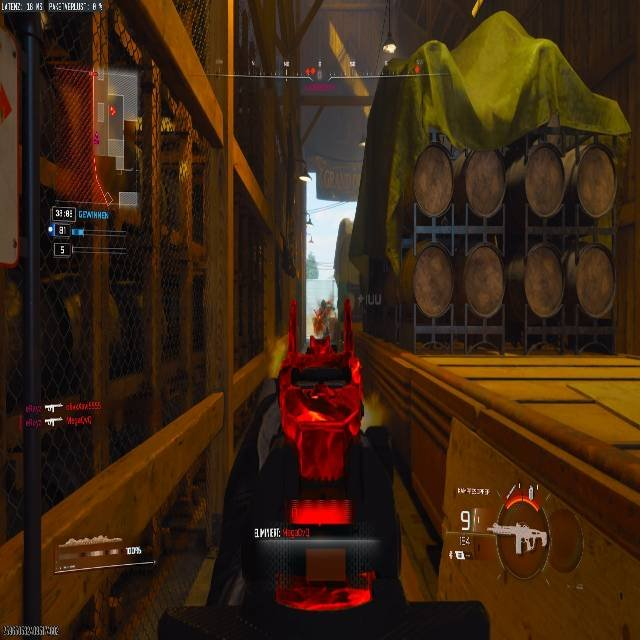player: (314, 299, 335, 338)
